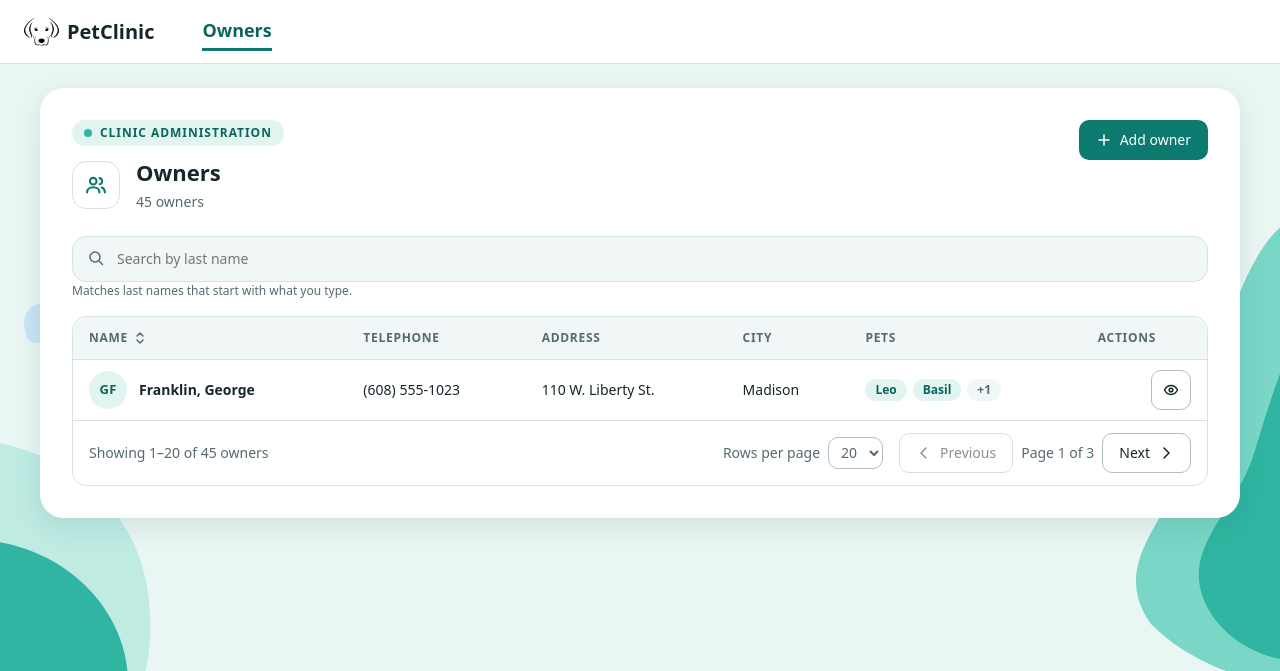
OwnersPage › gives each row a single View action that opens the owner
Step 1. Click the link named "View Franklin, George" → (1171, 390), box [1151,370,1191,410]
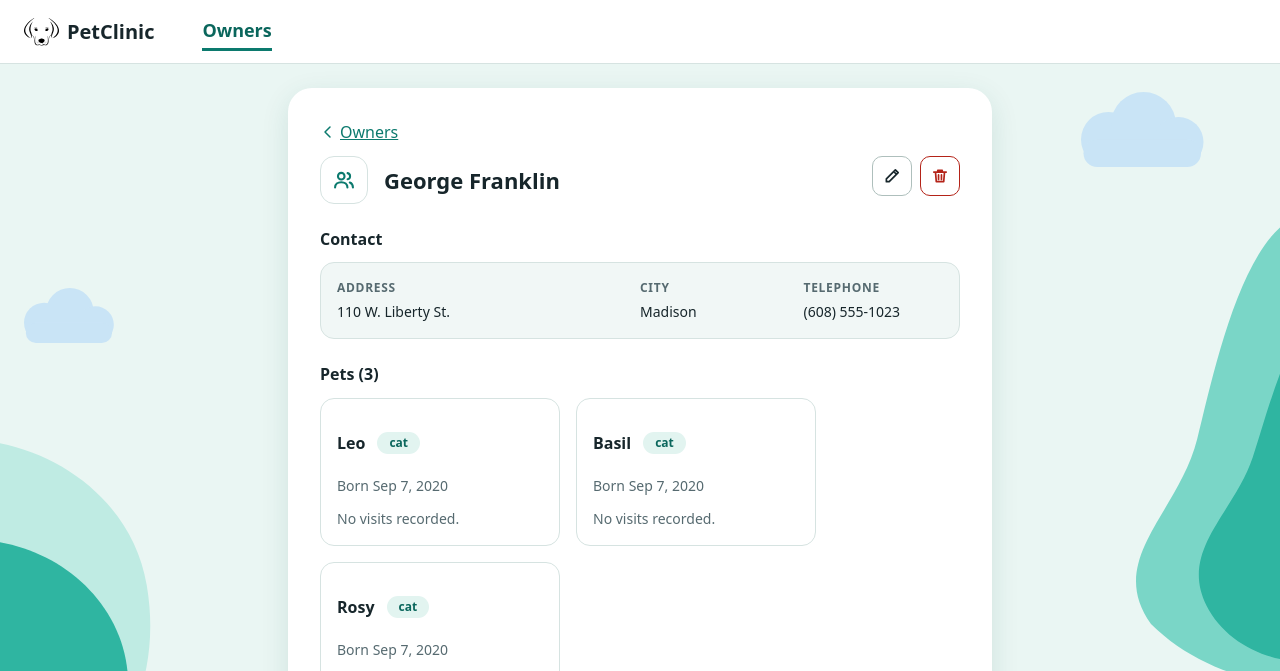
expect the heading "George Franklin" is shown: met, box [384,166,560,194]
